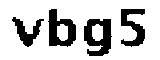5: (117, 7, 149, 48)
b: (47, 6, 78, 51)
g: (80, 16, 112, 60)
v: (8, 14, 44, 48)
